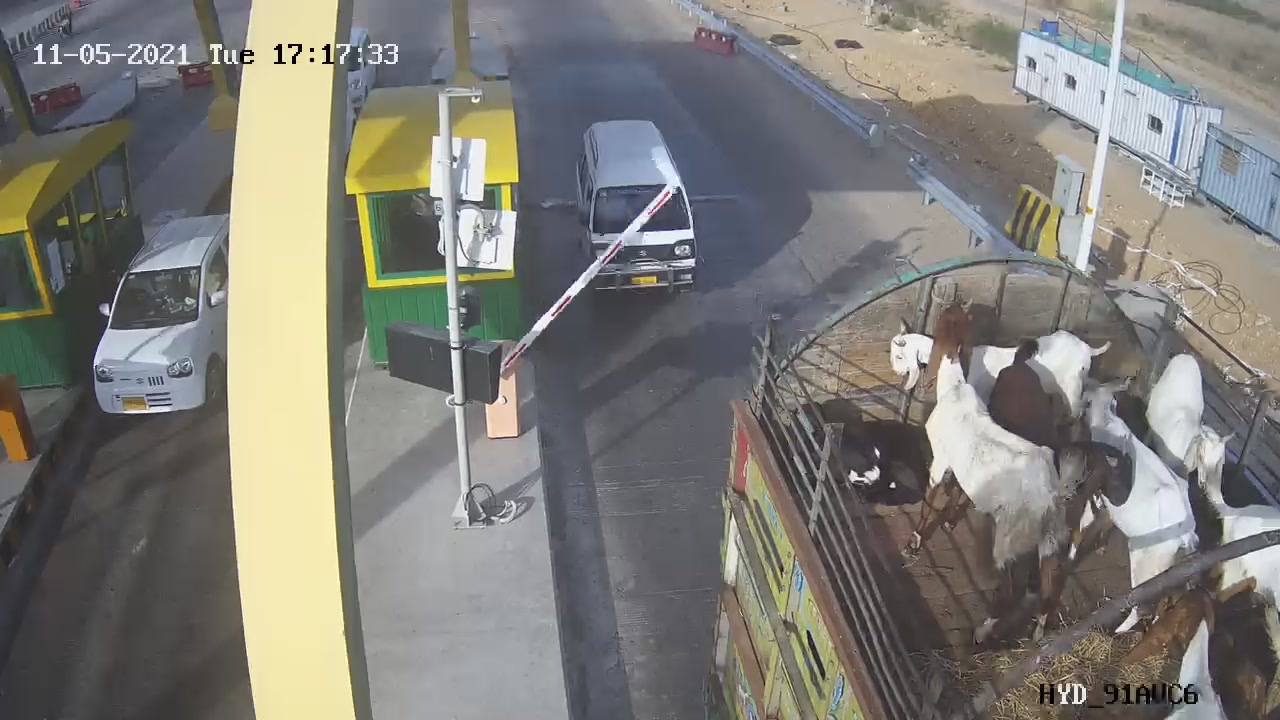F1: (559, 104, 713, 316)
